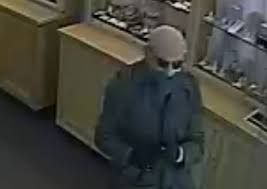gun: (151, 128, 203, 169)
